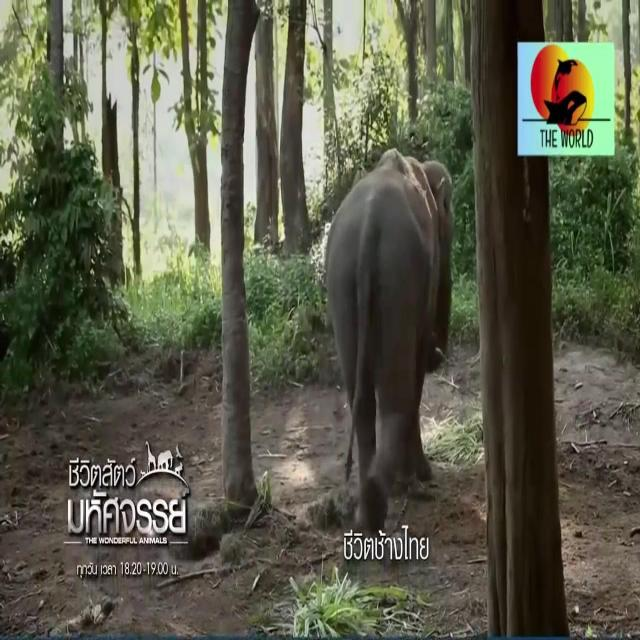Elephant: (328, 182, 450, 390)
